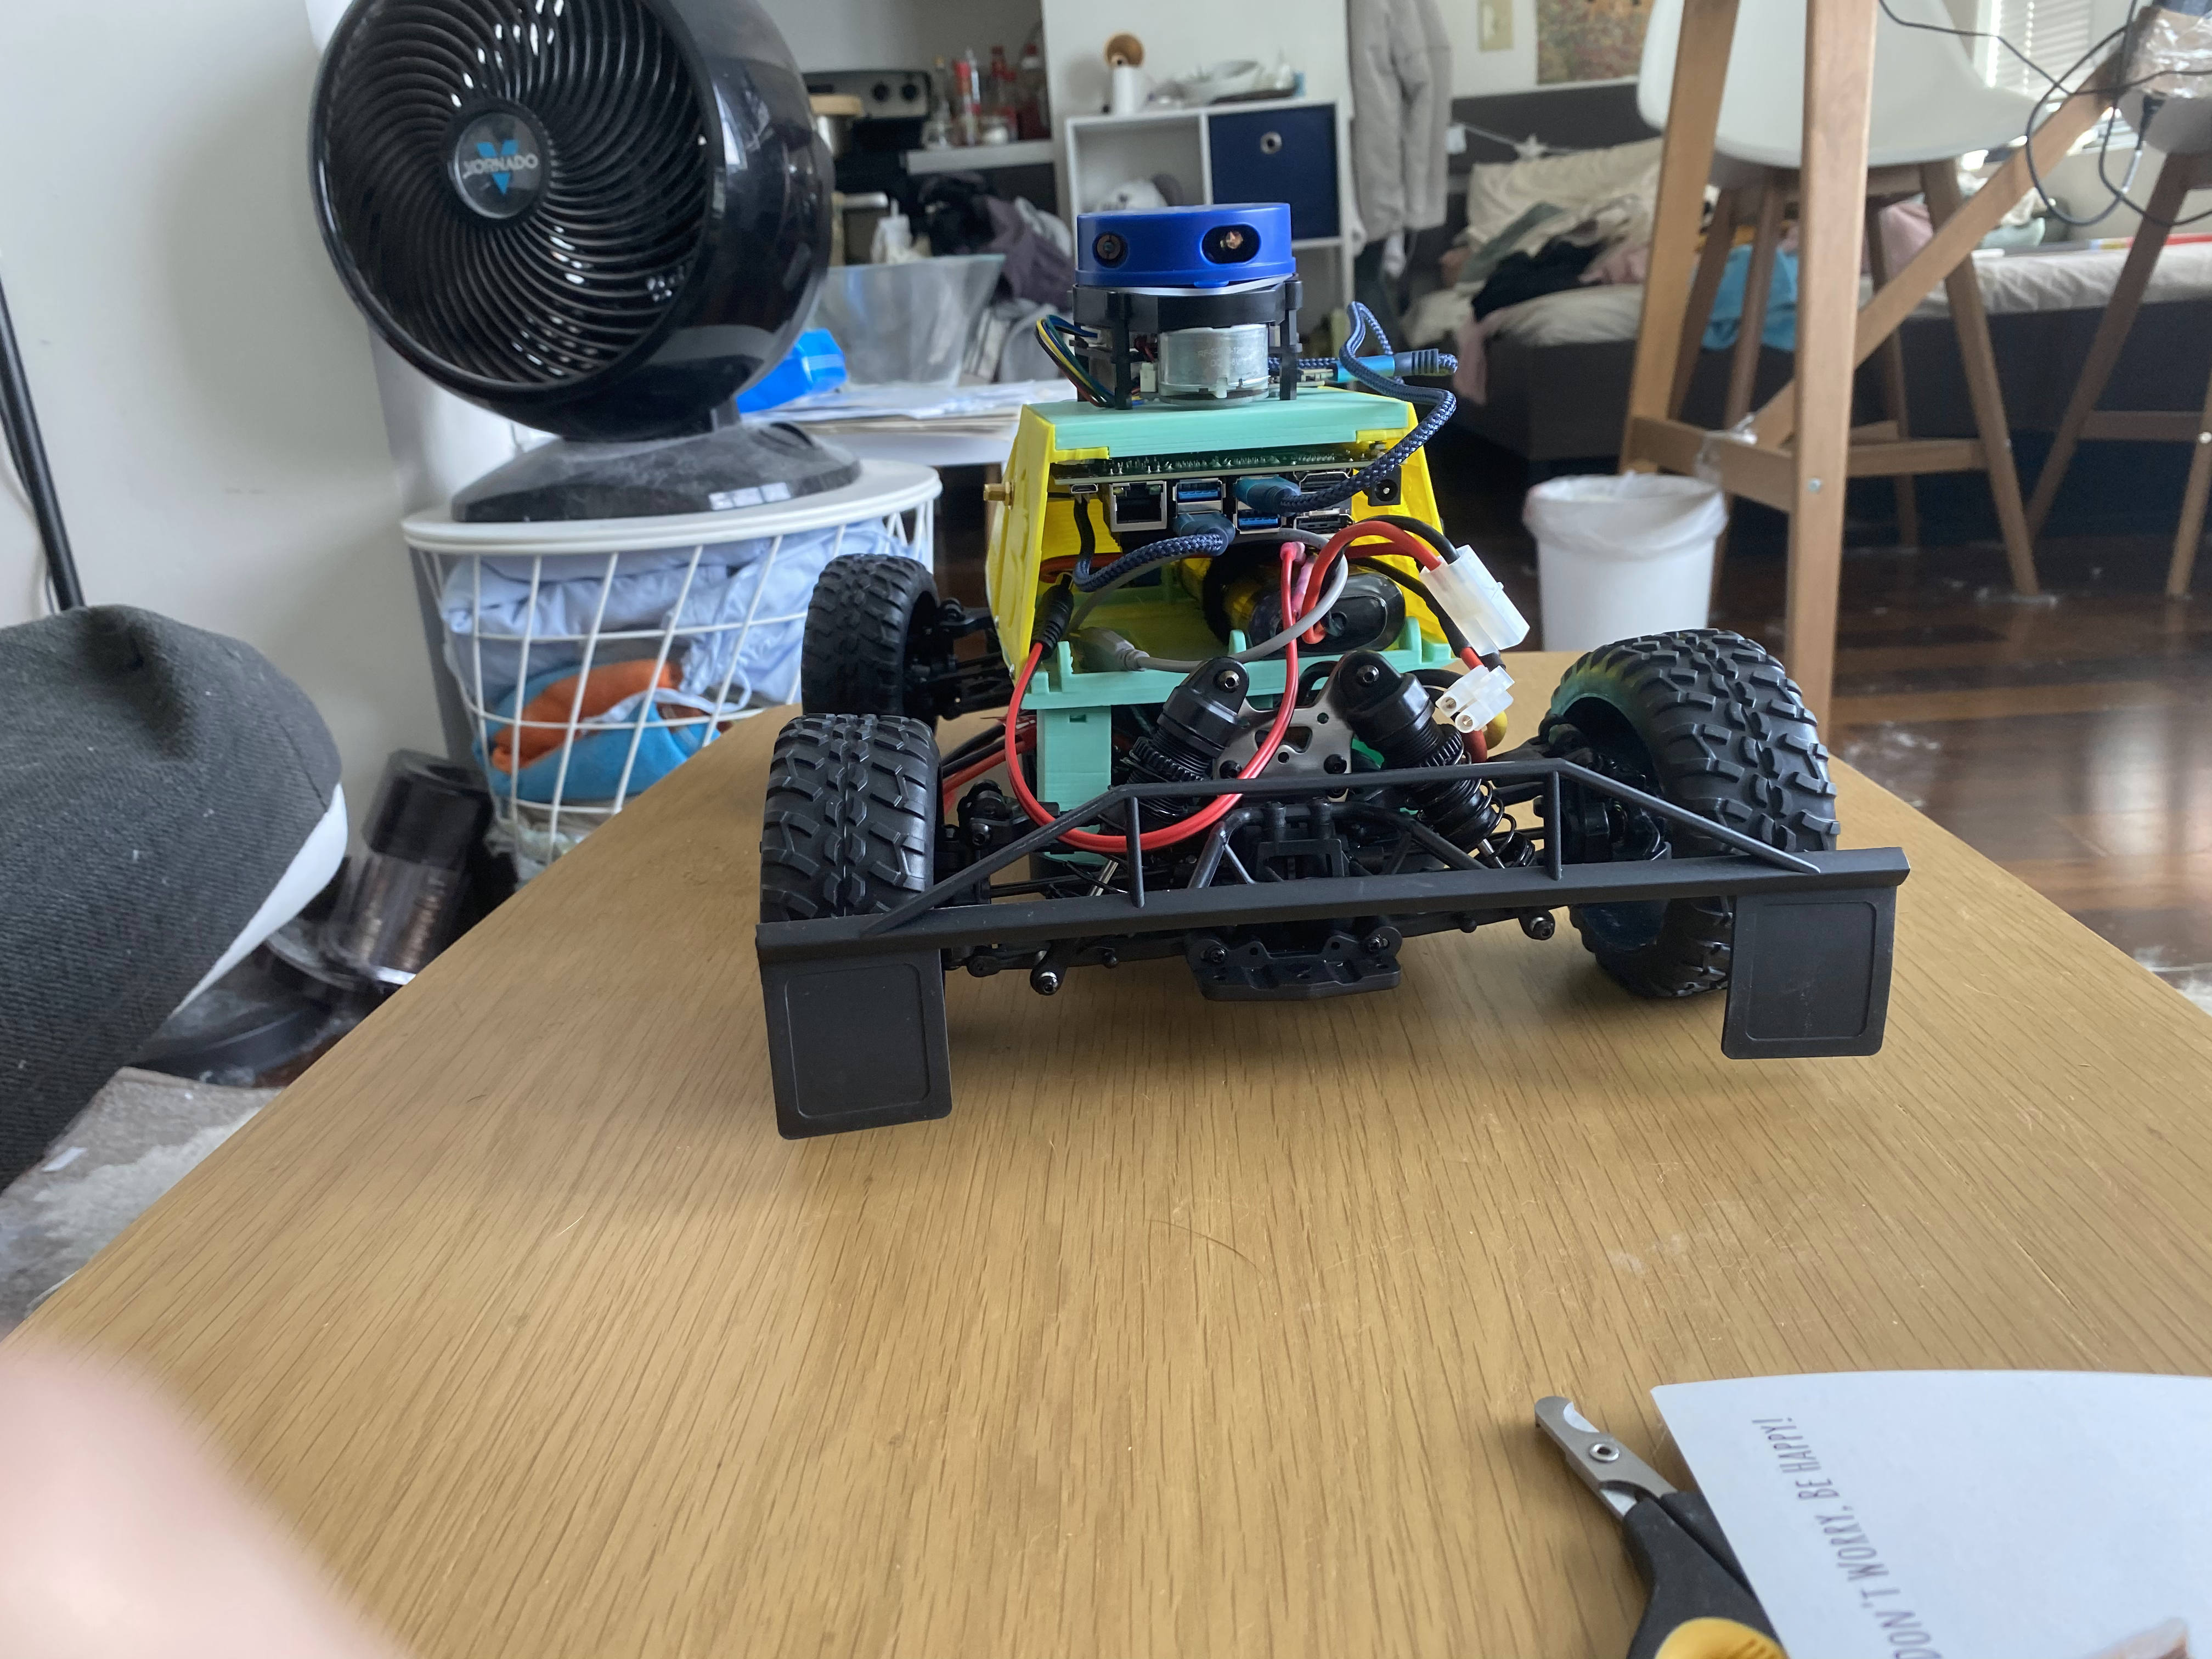mushr_car: (735, 200, 1930, 1209)
